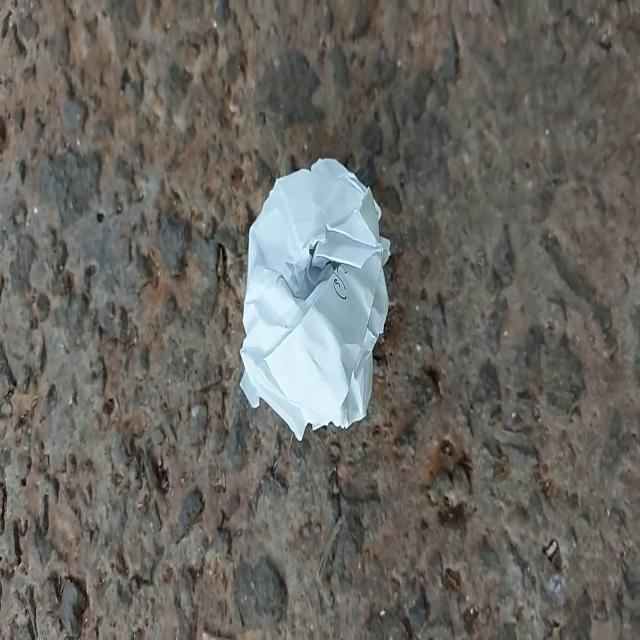Paper: (223, 140, 402, 443)
